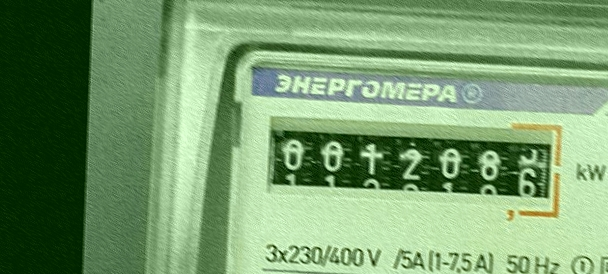0: (436, 144, 462, 180), (319, 136, 343, 174), (281, 135, 302, 172)
1: (360, 139, 378, 177)
2: (397, 146, 424, 182)
6: (513, 163, 537, 199)
8: (475, 147, 499, 183)
screen: (254, 104, 570, 233)
